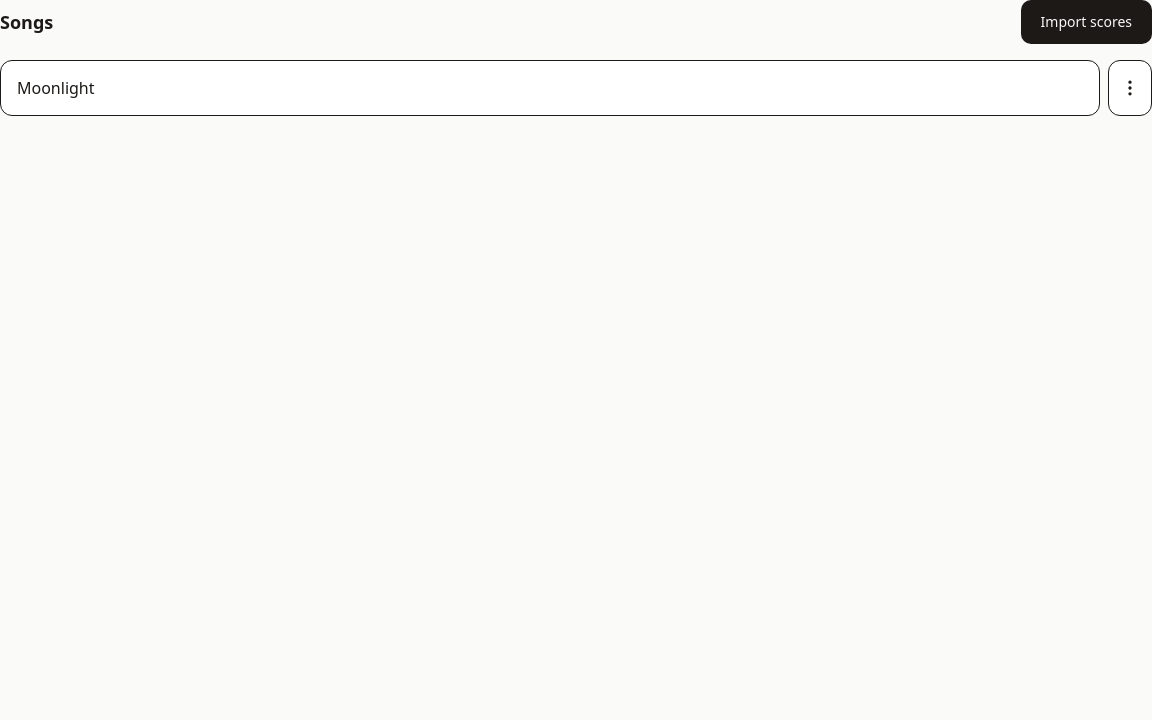
Test: cancelling the confirmation keeps the song in the list
Expected: the button "Moonlight" is shown, [0,60,1100,116]
Step 1. Click the button named "Actions for Moonlight" → [1130, 88], box [1108,60,1151,116]
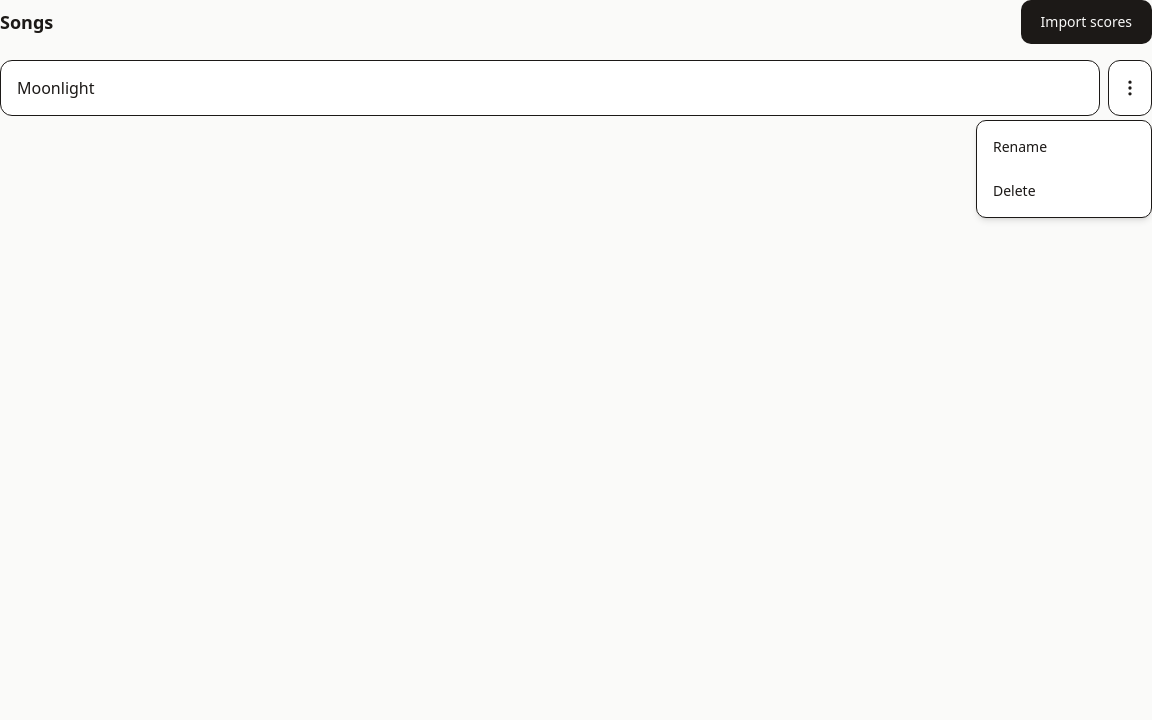
Step 2. Click the menu item "Delete" → [1014, 190], box [993,181,1036,200]
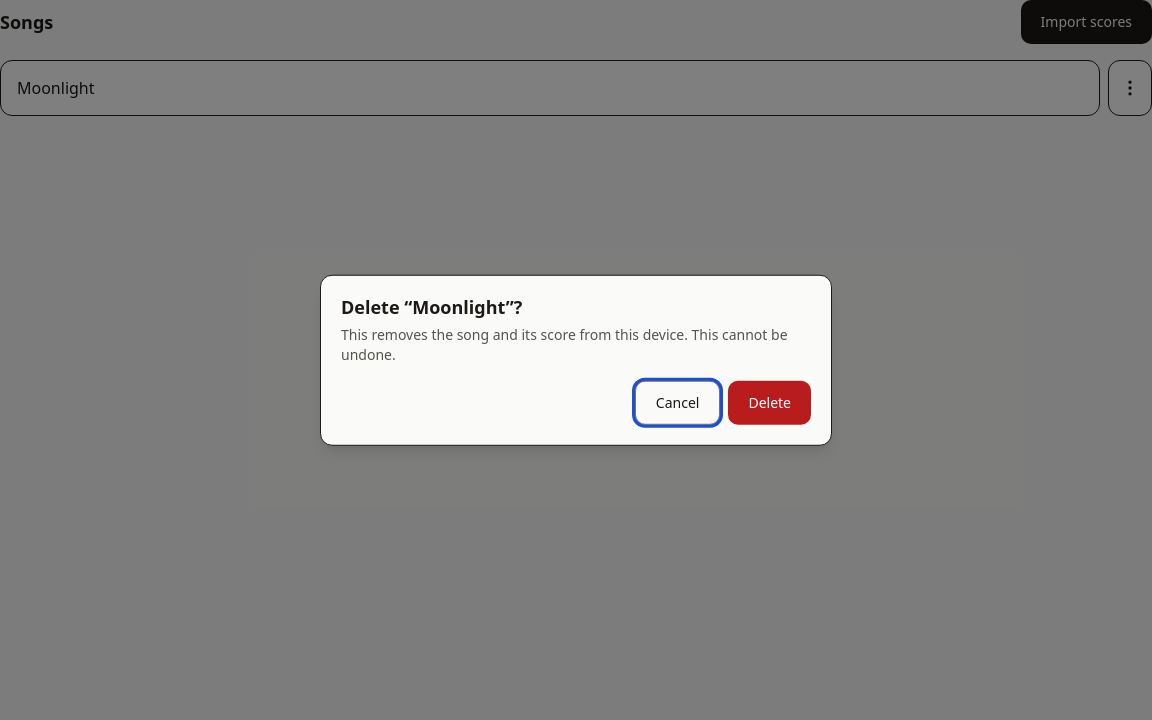
Step 3. Click the button "Cancel" → [678, 402], box [635,380,720,424]
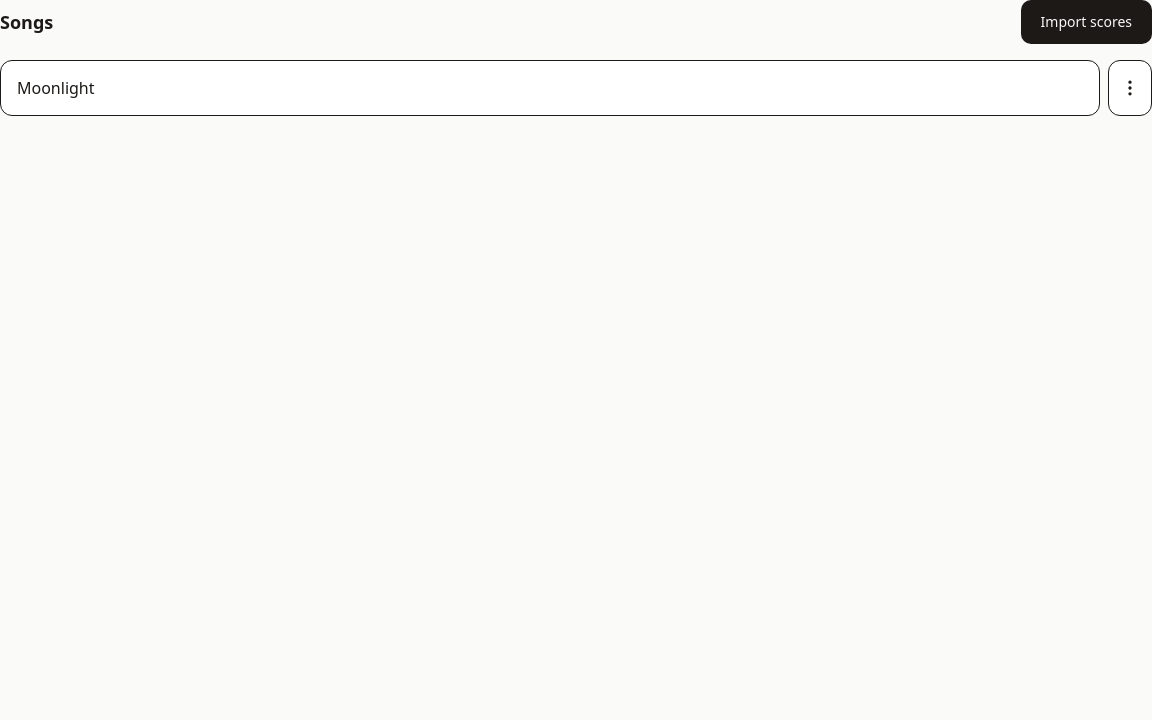
Expected: the button "Moonlight" is shown, [0,60,1100,116]
Now the dialog is gone
